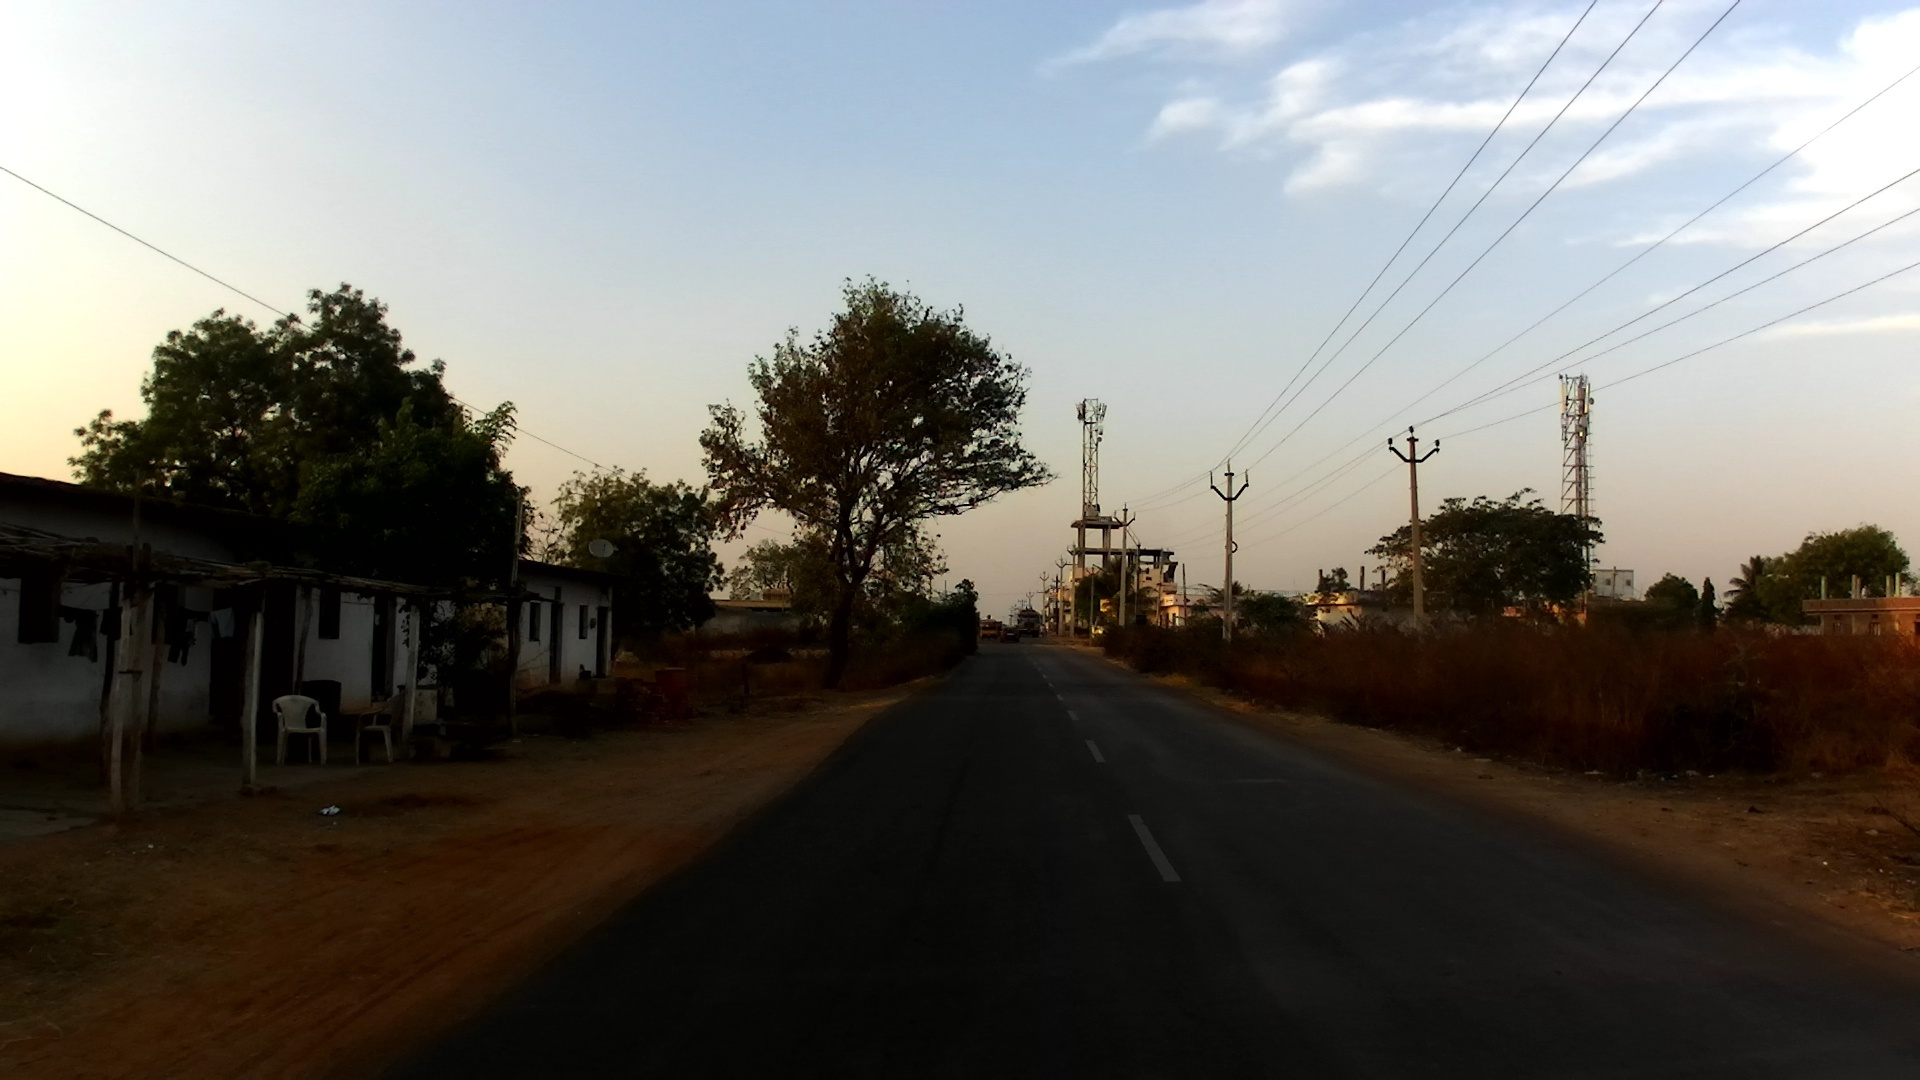car: (977, 616, 998, 642), (998, 626, 1021, 645)
motorcycle: (1039, 629, 1046, 637)
rider: (1039, 621, 1049, 637)
truck: (1016, 607, 1041, 637)
vehicle fallback: (1000, 620, 1006, 637)
